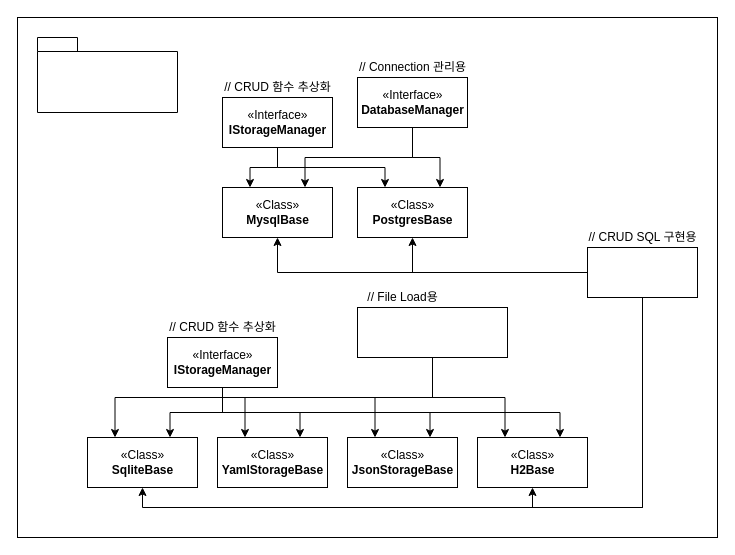
Some shapes in this 735 by 555 pixel diagram are drawn without their labels. Each missing label, with the box of its shape:
Storage: (36, 36, 178, 112)
«Class» SqlBase: (586, 246, 698, 298)
«interface» FileStorageManager: (356, 306, 508, 358)
